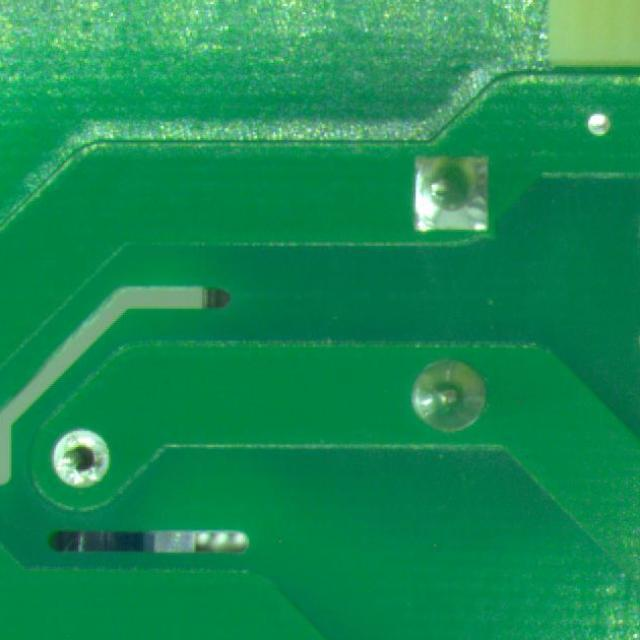Insufficient solder: (40, 423, 118, 498)
